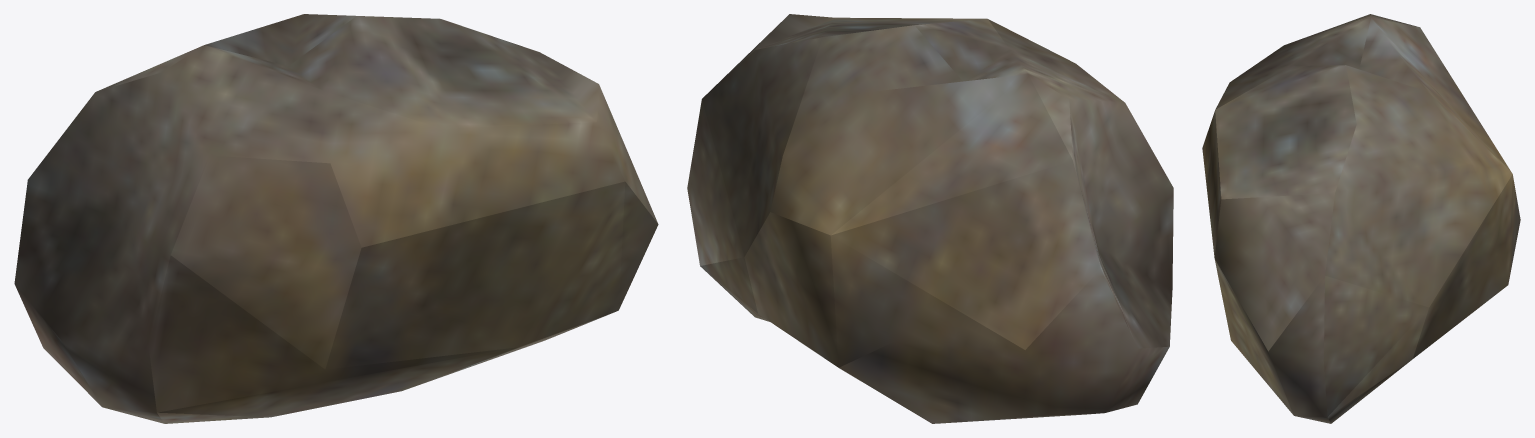
File: Stone1.fbx
3 views of the same model, side by side, from view 1: azimuth 30°, elevation 25°; view 2: azimuth 150°, elevation 25°; view 3: azimuth 270°, elevation 25° (orthographic). The views are drawn at different scales.
Visible parts, largest first — view 1: Stone_1; view 2: Stone_1; view 3: Stone_1.
Boxes of the visible parts, x1,y1,x2,y2 form: Stone_1: (14,14,658,423); Stone_1: (687,14,1173,423); Stone_1: (1202,14,1520,423).
Size of the model in its own units: 32.87 by 21.09 by 20.76.
